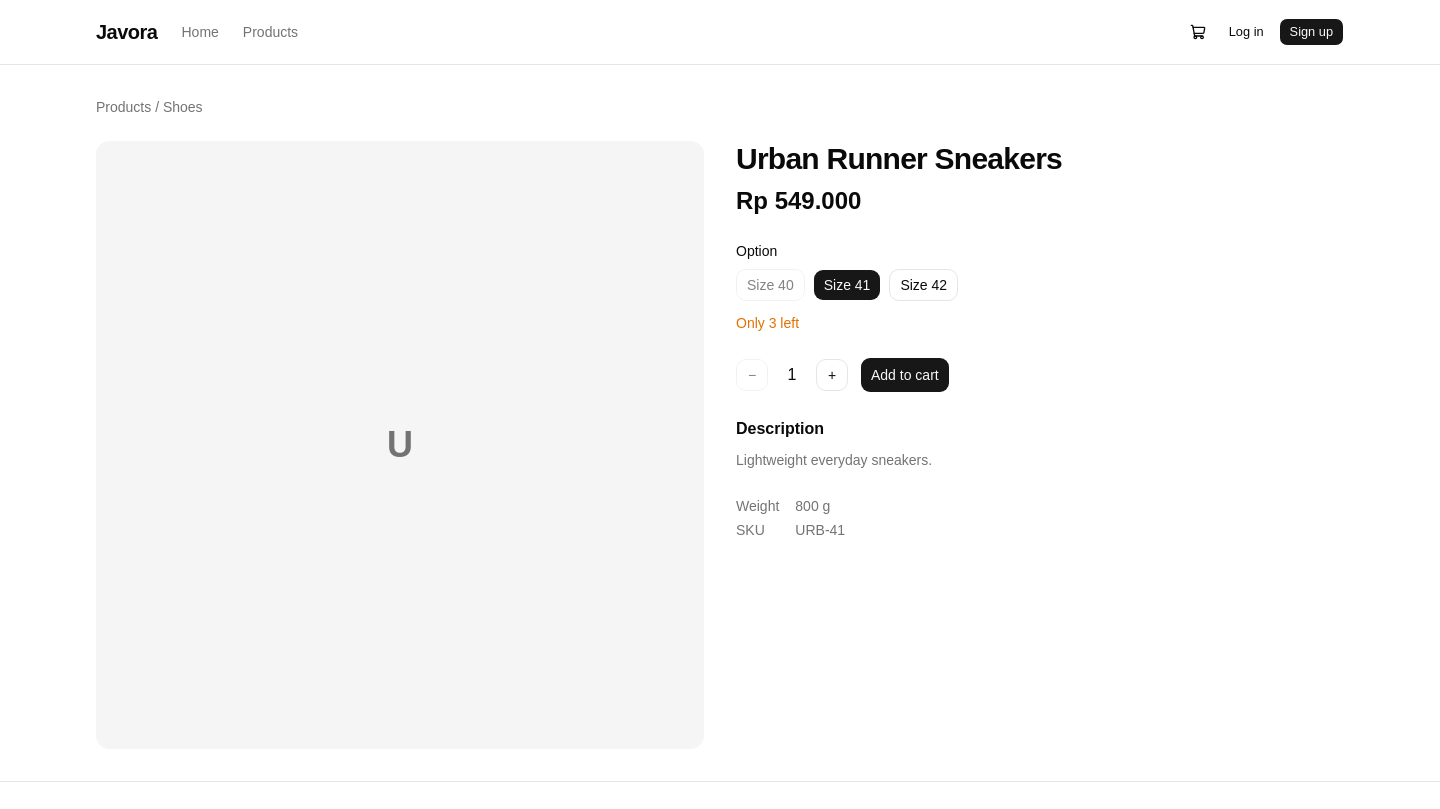
Test: product detail › updates price and stock message when another option is chosen
Click the button "Size 42".
click(924, 285)  # box x1=889 y1=269 x2=958 y2=301
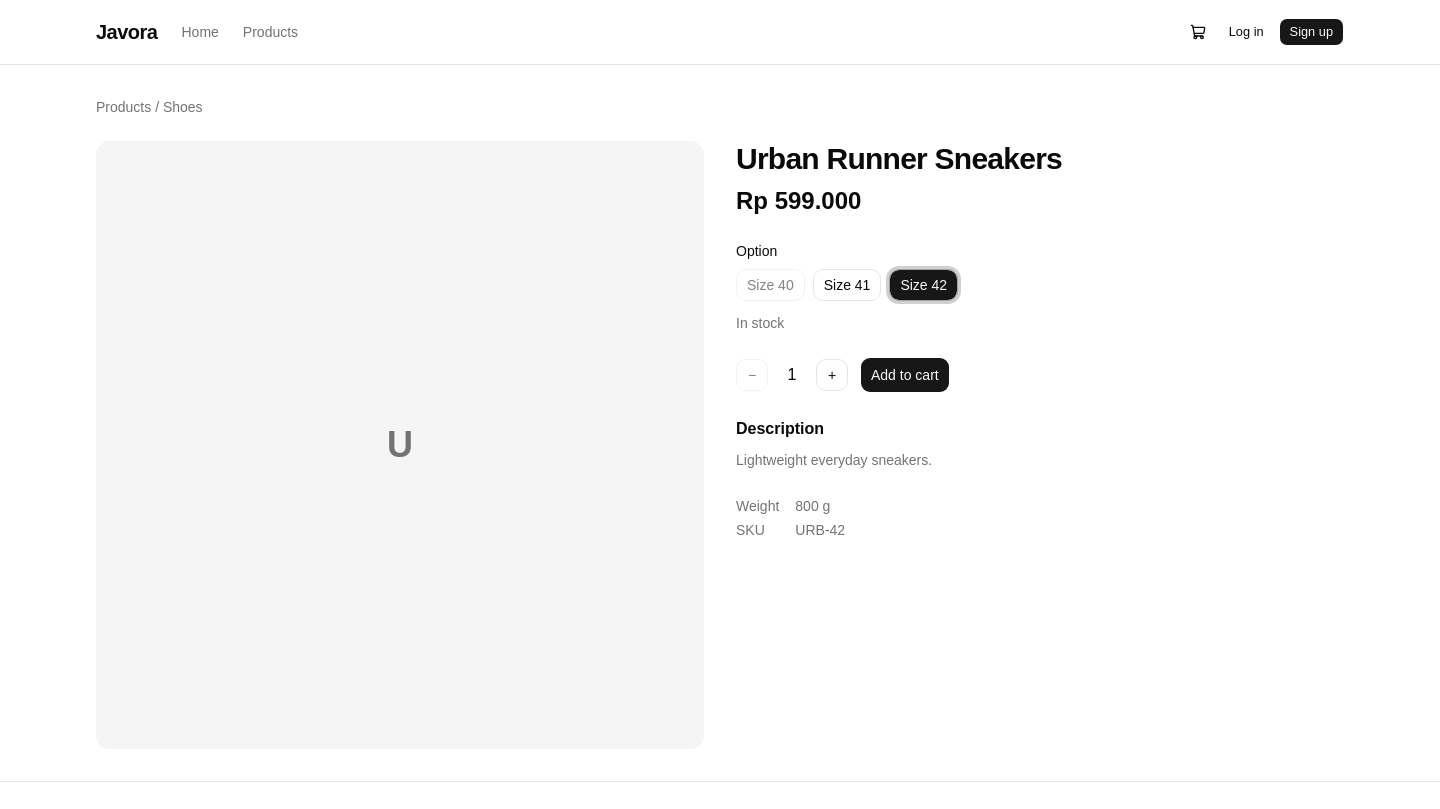
Expected: the text "Rp 599.000" is shown, x1=736 y1=187 x2=861 y2=214
Expected: the text "In stock" is shown, x1=736 y1=315 x2=784 y2=331
